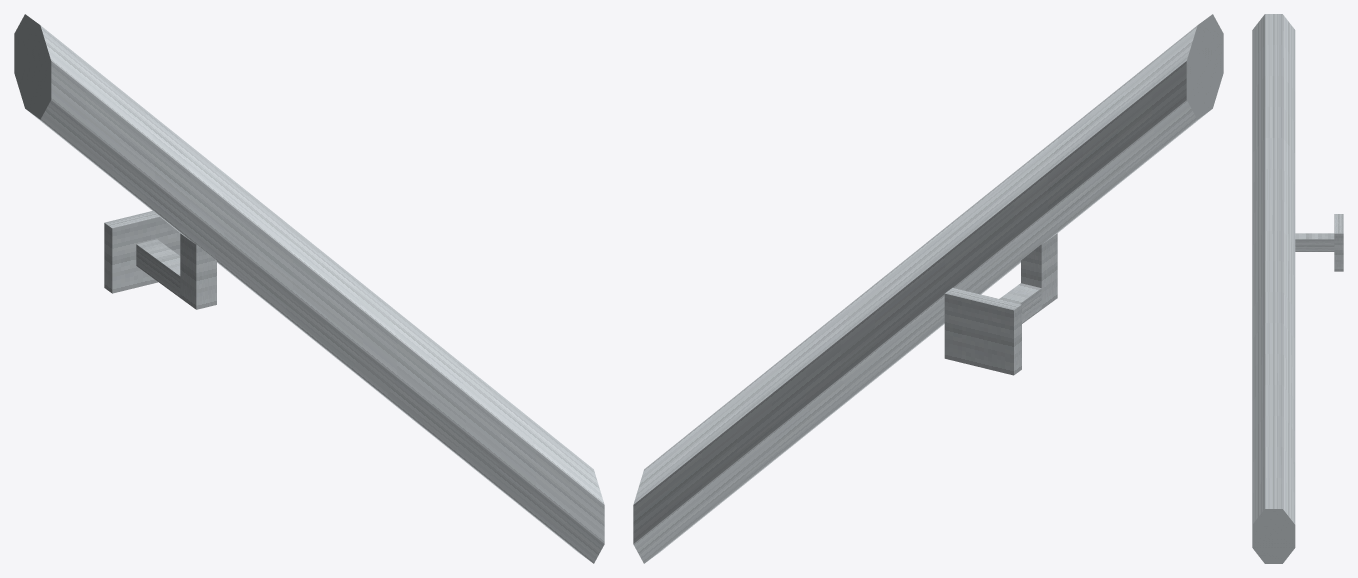
File: mid_neg.obj
3 views of the same model, side by side, from view 1: azimuth 30°, elevation 25°; view 2: azimuth 150°, elevation 25°; view 3: azimuth 270°, elevation 25° (orthographic). The views are drawn at different scales.
Visible parts, largest first — view 1: handrail_wall_stainless_round_mid_neg; view 2: handrail_wall_stainless_round_mid_neg; view 3: handrail_wall_stainless_round_mid_neg.
Part boxes in pixels (x1,y1,x2,y2): handrail_wall_stainless_round_mid_neg: (14,14,604,563); handrail_wall_stainless_round_mid_neg: (633,14,1223,563); handrail_wall_stainless_round_mid_neg: (1252,14,1343,563).
Size of the model in its own units: 1 by 1.16 by 0.2452.
